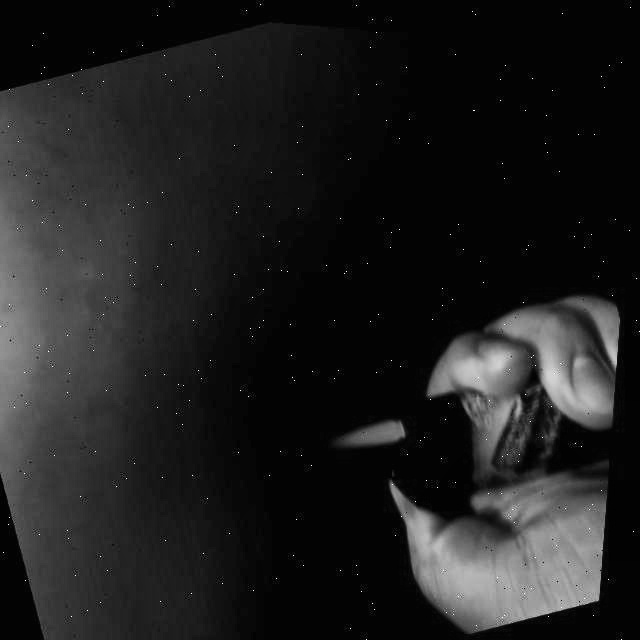Fire: (328, 398, 415, 462)
